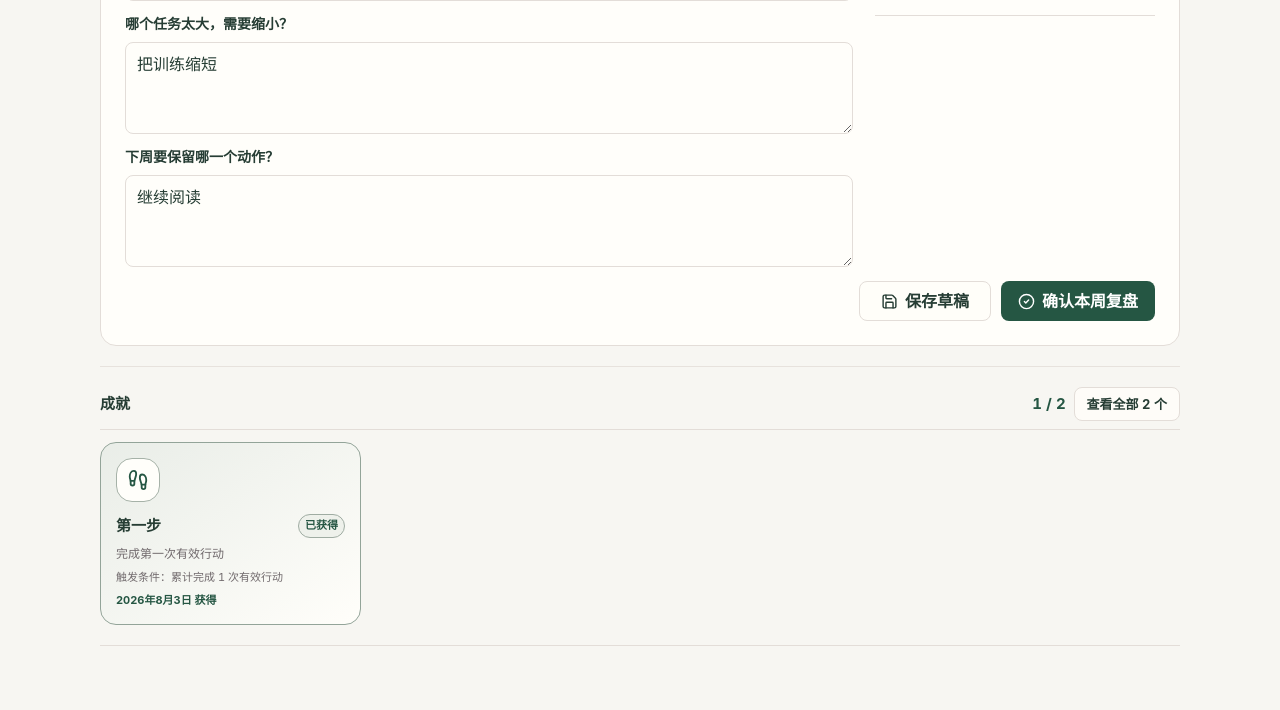
Insights › uses server achievements and shows all four independent role levels
This screenshot has width=1280, height=710.
(page scrolled)
Expected: the number of elements with class "badge-card" is 1, [100,442,361,625]
Click the button with class "badge-toggle" at x=1127, y=404, box [1074,387,1180,421]
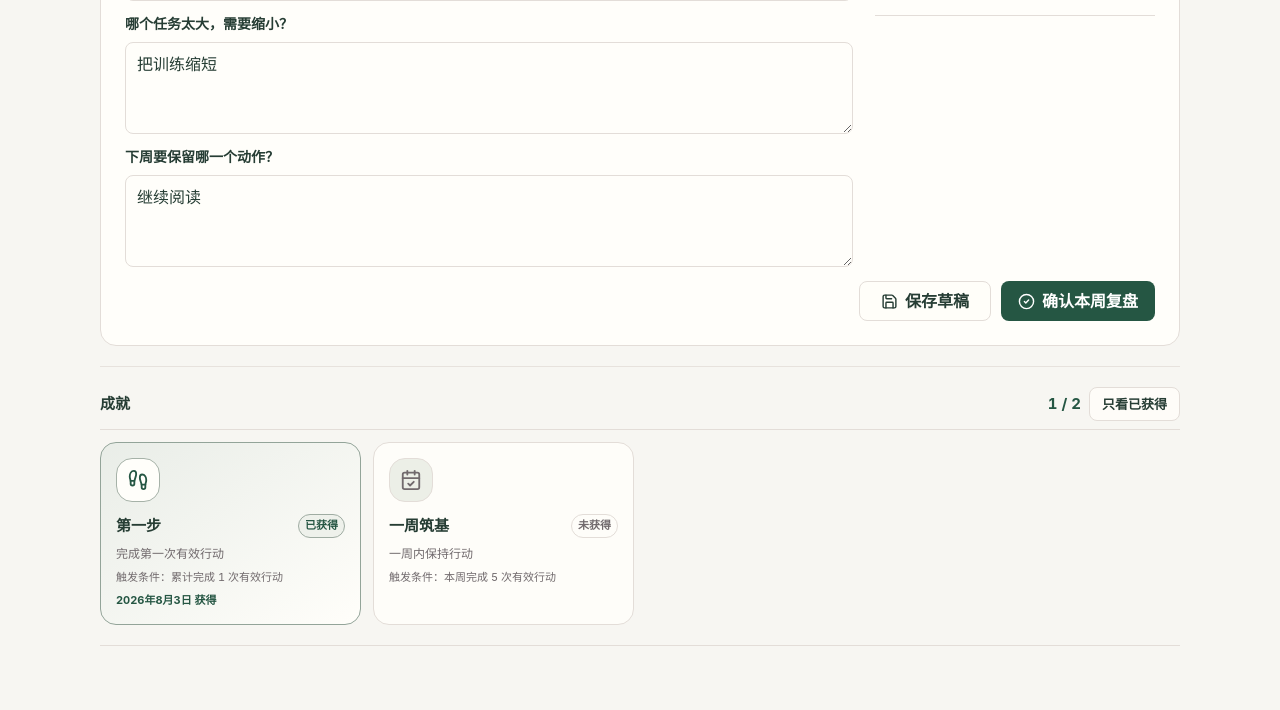
Expected: the text "第一步" is shown, [116,516,161,536]
Now the number of elements with class "badge-card" is 2, box [100,442,361,625]; [373,442,634,625]
